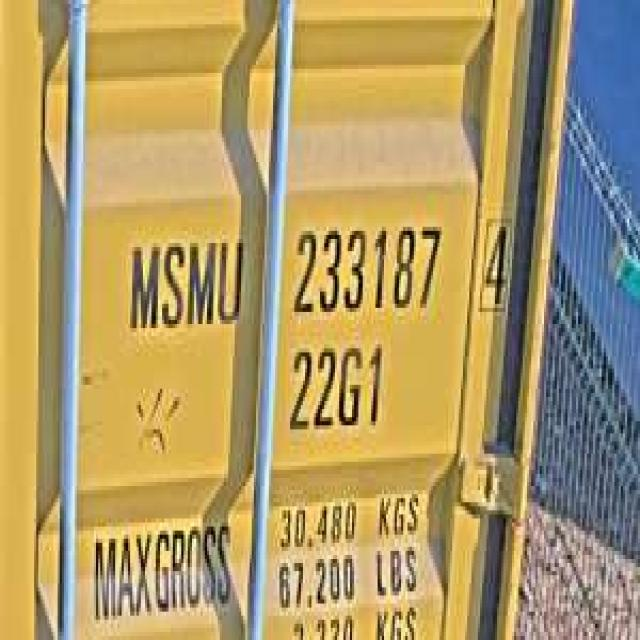dv: (476, 203, 518, 320)
owner: (124, 227, 247, 336)
serial: (286, 211, 446, 324)
size: (284, 332, 386, 438)
